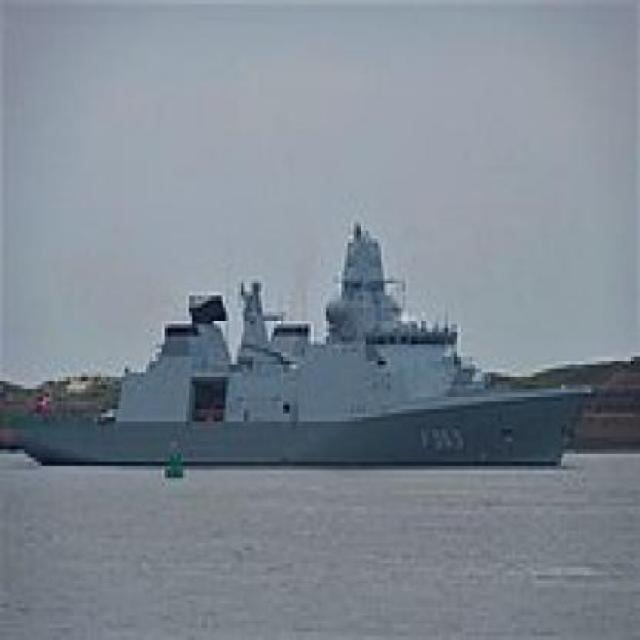warship2: (16, 228, 596, 491)
